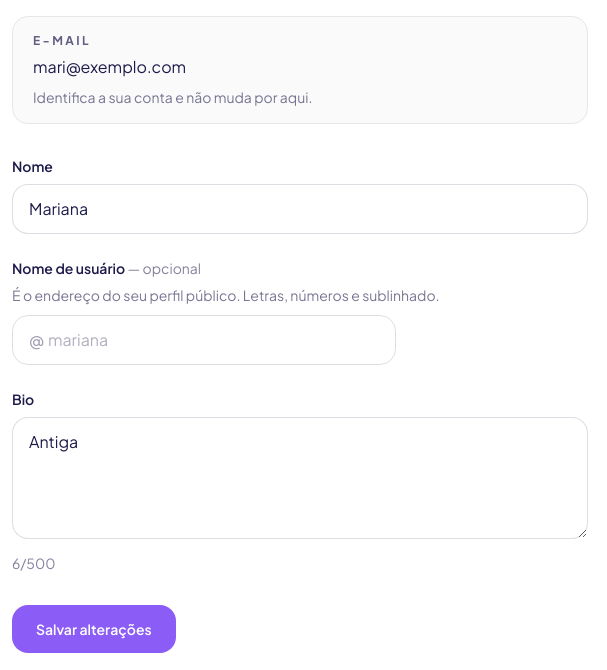
Test case: formulário de perfil › salva e confirma na tela
Replace the text in the text box labelled "Bio" with "Nova": coordinates (300, 478) [12,417,588,539]
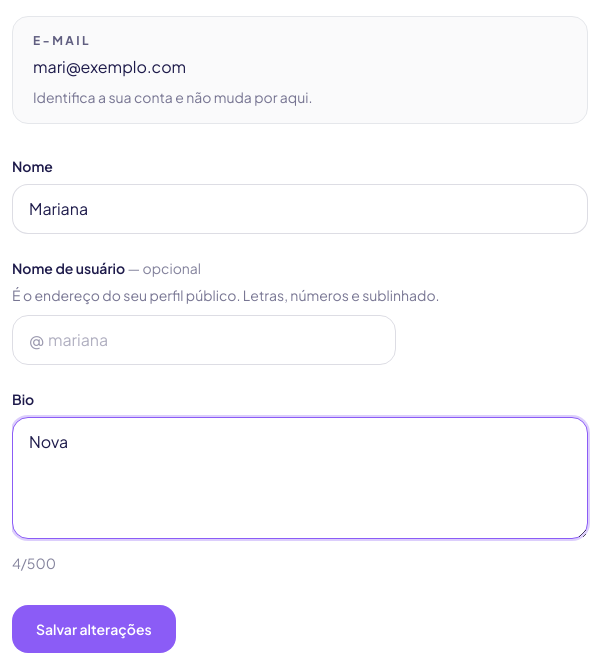
Click the button "Salvar alterações": coordinates (94, 629) [12,605,176,653]
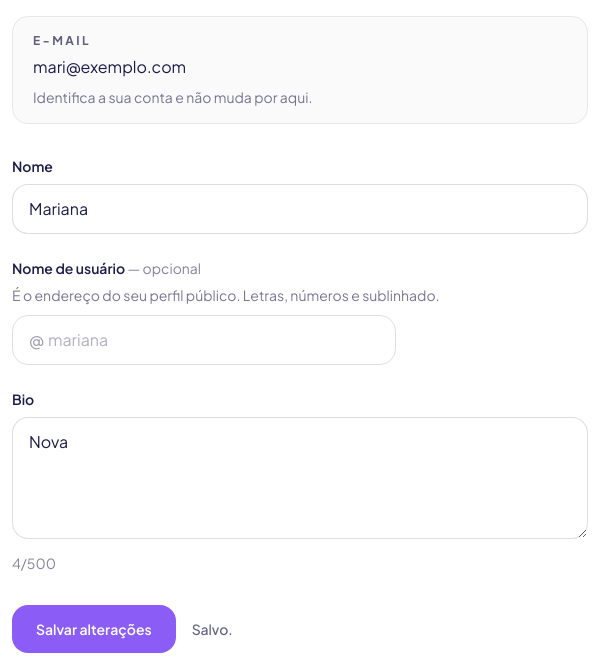
Expected: the message shows "Salvo", [192,620,233,638]
